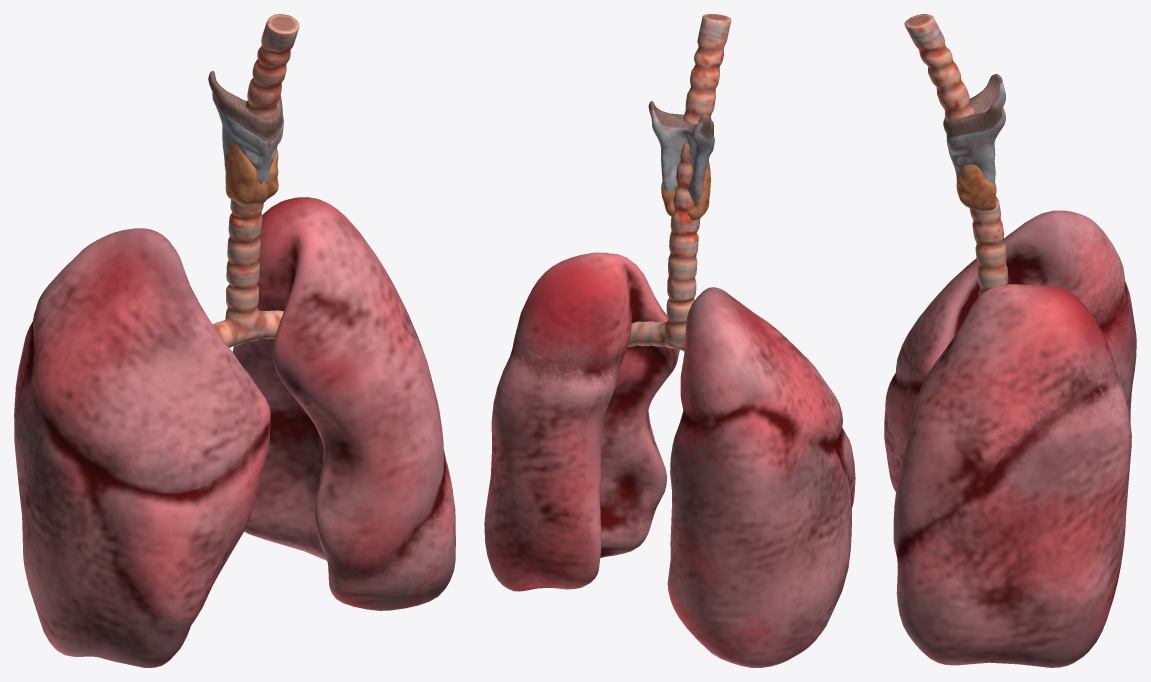
The model's file is realistic_human_lungs.glb.
3 renders of one model, left to right at view 1: azimuth 30°, elevation 25°; view 2: azimuth 150°, elevation 25°; view 3: azimuth 270°, elevation 25°, orthographic. The views are drawn at different scales.
Visible parts, largest first — view 1: thairoid01:low_part02_Group6344:Group24638_thairoid01:lungh_, thairoid01:low_part01_Group6344:Group18522_thairoid01:lungh_; view 2: thairoid01:low_part02_Group6344:Group24638_thairoid01:lungh_, thairoid01:low_part01_Group6344:Group18522_thairoid01:lungh_; view 3: thairoid01:low_part02_Group6344:Group24638_thairoid01:lungh_, thairoid01:low_part01_Group6344:Group18522_thairoid01:lungh_.
Part boxes in pixels (x1,y1,x2,y2): thairoid01:low_part02_Group6344:Group24638_thairoid01:lungh_: (14,197,455,667); thairoid01:low_part01_Group6344:Group18522_thairoid01:lungh_: (208,14,299,347); thairoid01:low_part02_Group6344:Group24638_thairoid01:lungh_: (484,252,855,667); thairoid01:low_part01_Group6344:Group18522_thairoid01:lungh_: (627,14,731,351); thairoid01:low_part02_Group6344:Group24638_thairoid01:lungh_: (884,210,1136,667); thairoid01:low_part01_Group6344:Group18522_thairoid01:lungh_: (904,14,1008,296).
Size of the model in its own units: 0.2232 by 0.3686 by 0.1423.
Materials: 2 (2 with a texture image).
